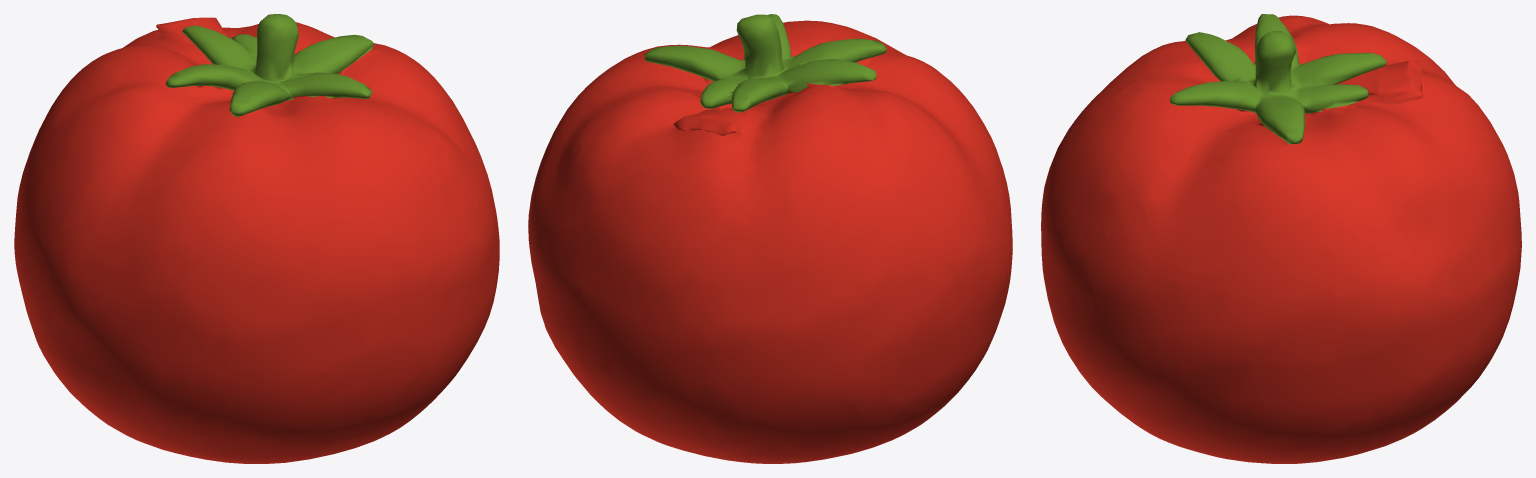
The model's file is kitchen-tomato-v1.glb.
The picture shows the model from 3 angles, left to right: view 1: azimuth 30°, elevation 25°; view 2: azimuth 150°, elevation 25°; view 3: azimuth 270°, elevation 25°; orthographic projection.
Visible parts, largest first — view 1: tripo_node_fae35f8f-054a-4fad-a5ab-3473bcd6b79b; view 2: tripo_node_fae35f8f-054a-4fad-a5ab-3473bcd6b79b; view 3: tripo_node_fae35f8f-054a-4fad-a5ab-3473bcd6b79b.
Part boxes in pixels (bbox=[...]): tripo_node_fae35f8f-054a-4fad-a5ab-3473bcd6b79b: bbox=[14, 14, 499, 463]; tripo_node_fae35f8f-054a-4fad-a5ab-3473bcd6b79b: bbox=[528, 14, 1012, 463]; tripo_node_fae35f8f-054a-4fad-a5ab-3473bcd6b79b: bbox=[1041, 14, 1521, 463].
Size of the model in its own units: 1 by 0.8811 by 0.9976.
